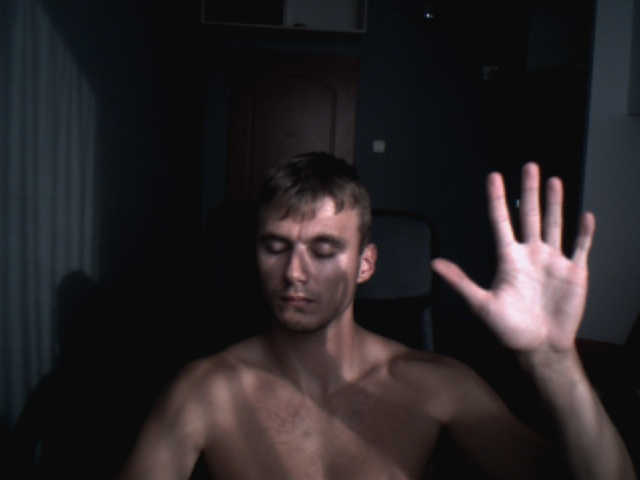open: (429, 162, 595, 350)
